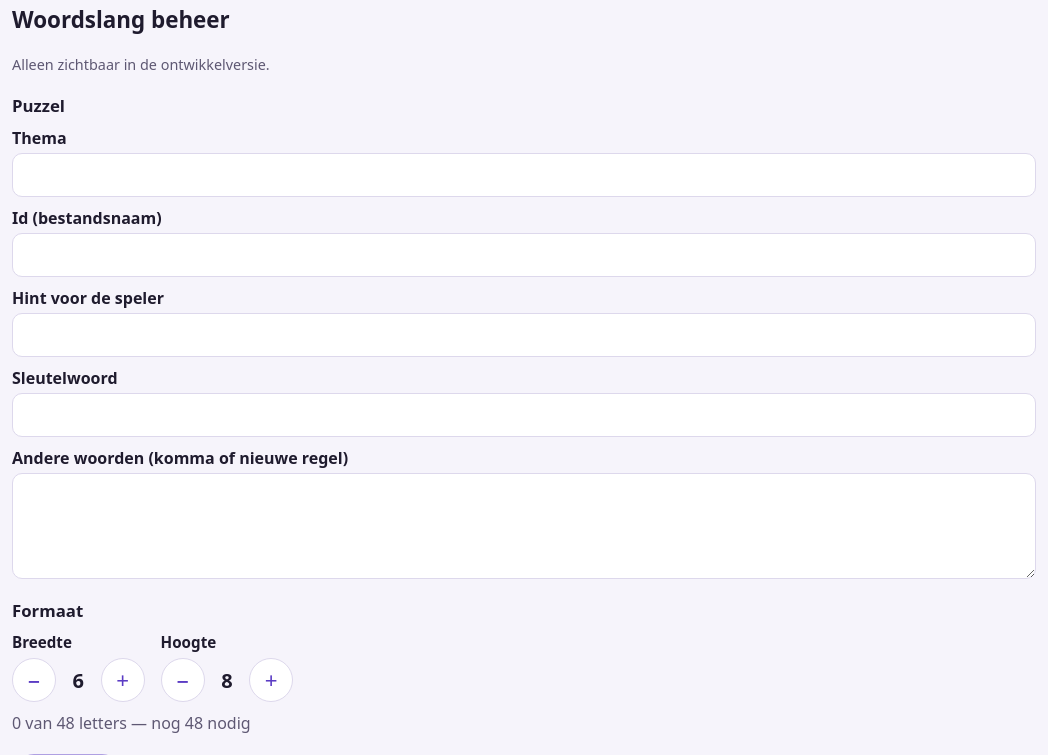
Scenario: BeheerPage › shows a live letter count against the grid
Check: the text with test id "letter-count" reads "0 van 48 letters — nog 48 nodig", box left=12, top=712, right=251, bottom=734
Type "Fruit" into the field labelled "Thema". click: [524, 175]
box: left=12, top=153, right=1036, bottom=197
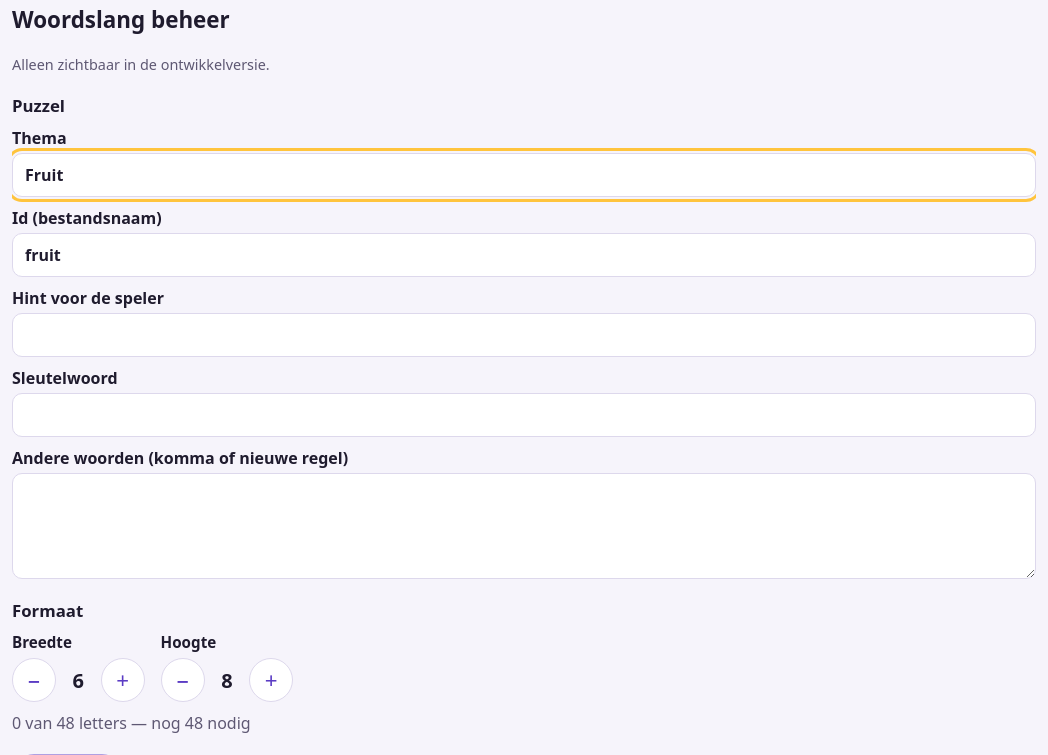
Type "Gezond" into the field labelled "Hint voor de speler". click: [524, 335]
box: left=12, top=313, right=1036, bottom=357
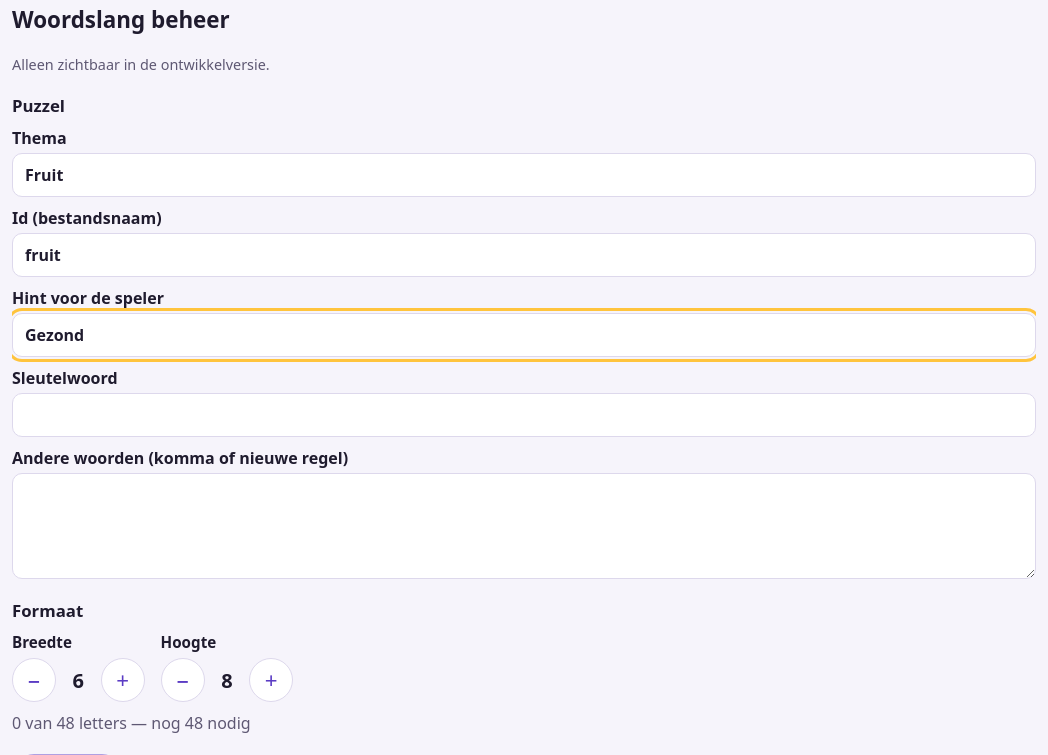
Type "fruitmand" into the field labelled "Sleutelwoord". click: [524, 415]
box: left=12, top=393, right=1036, bottom=437
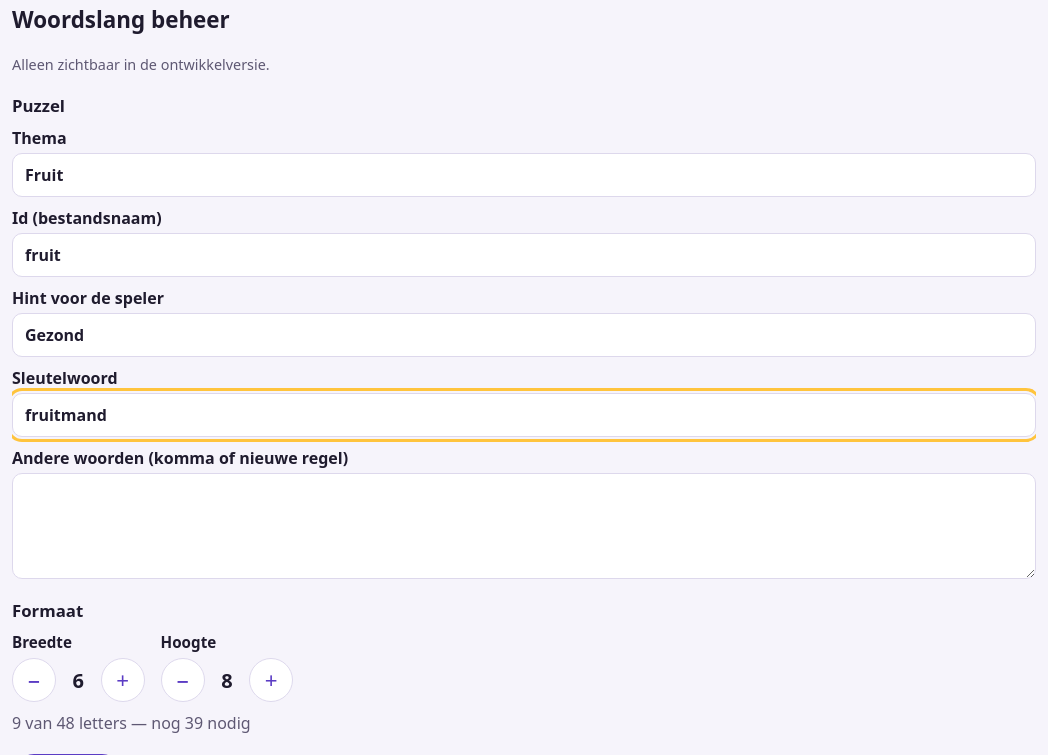
Type "banaan, appel" into the text box labelled "Andere woorden (komma of nieuwe regel)". click: [524, 526]
box: left=12, top=473, right=1036, bottom=579
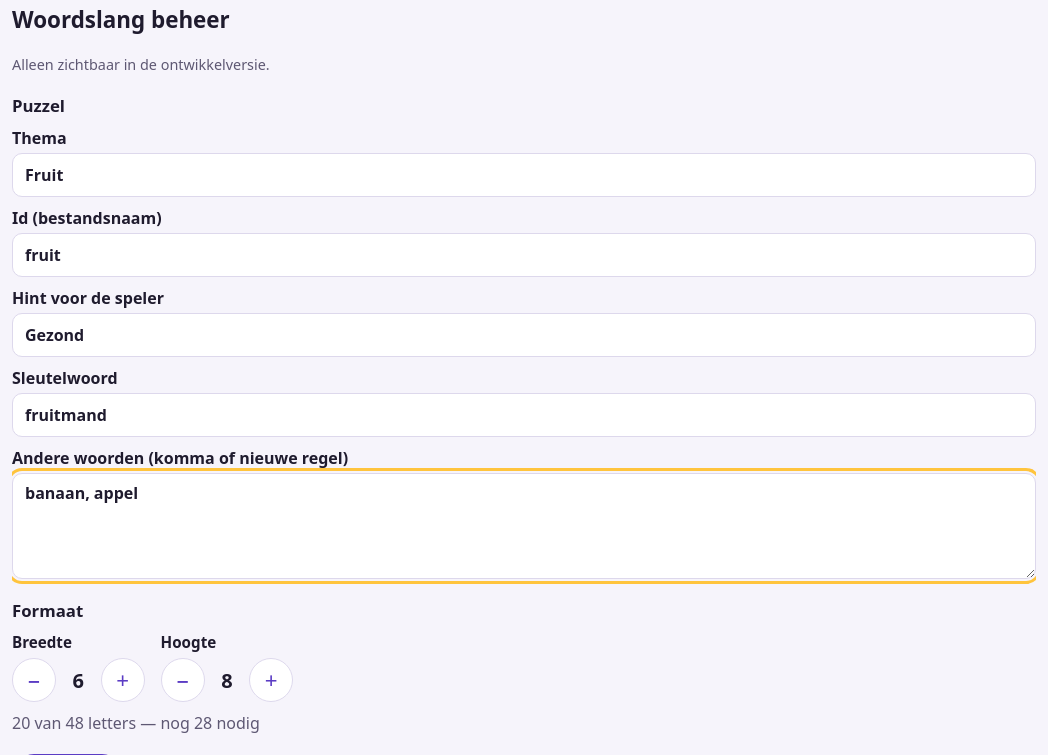
Check: the text with test id "letter-count" reads "20 van 48 letters — nog 28 nodig", box left=12, top=712, right=260, bottom=734
Type ", peer, druif, citroen, kiwi, vijg, kers" into the text box labelled "Andere woorden (komma of nieuwe regel)". click: [524, 526]
box: left=12, top=473, right=1036, bottom=579
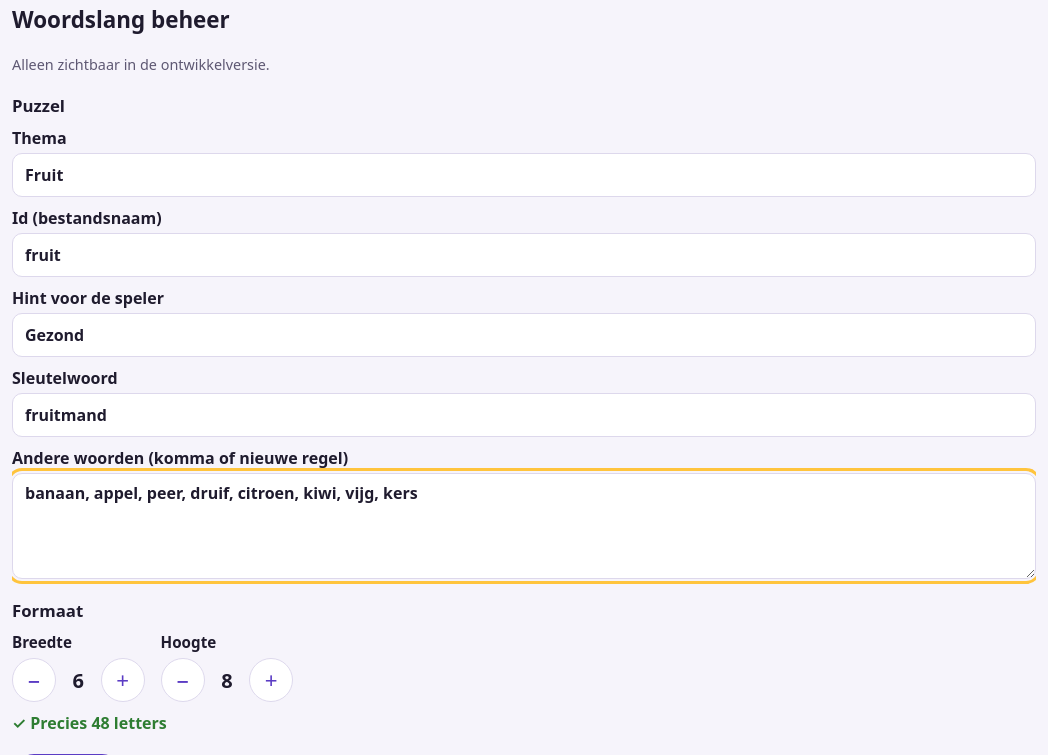
Check: the text with test id "letter-count" reads "✓ Precies 48 letters", box left=12, top=712, right=167, bottom=734
